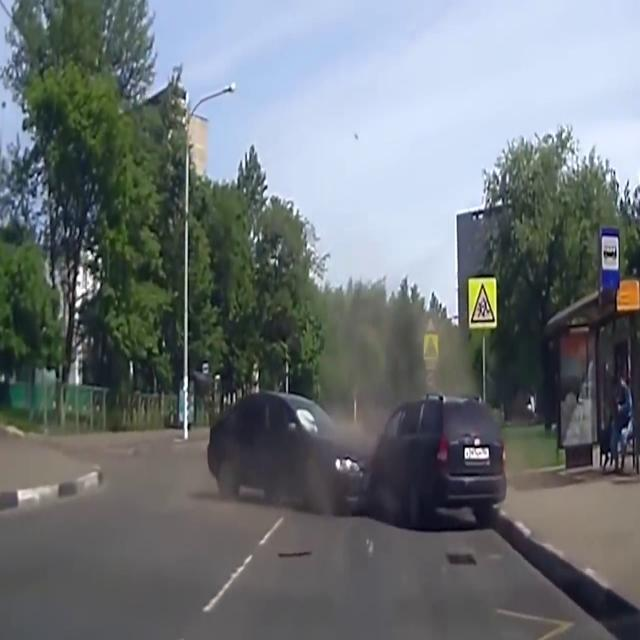accident: (204, 388, 512, 530)
